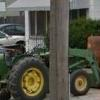Tractor: (8, 26, 99, 100)
